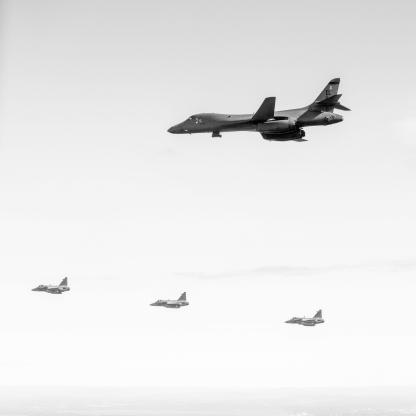B1: (168, 79, 353, 143)
JAS39: (284, 310, 326, 328), (149, 293, 190, 310), (30, 278, 71, 295)
